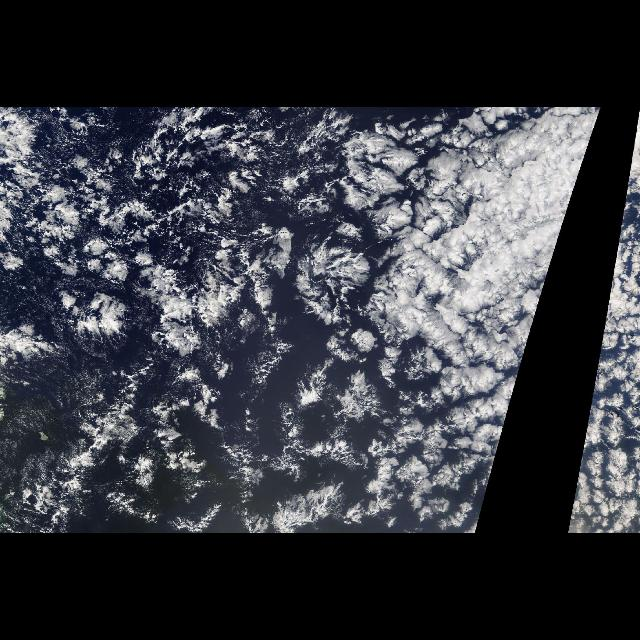Flower: (2, 110, 602, 530), (566, 124, 640, 530)
Gravel: (40, 111, 278, 282)
